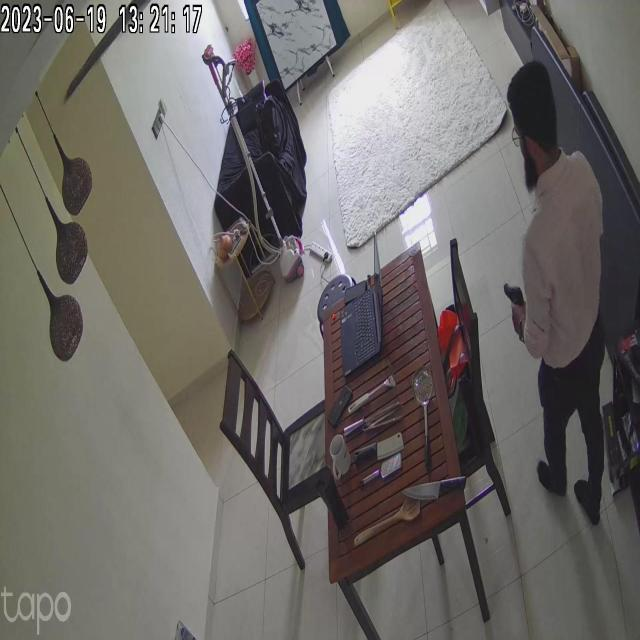Gun: (497, 270, 530, 315)
Knife: (354, 431, 405, 484), (392, 473, 476, 502)
